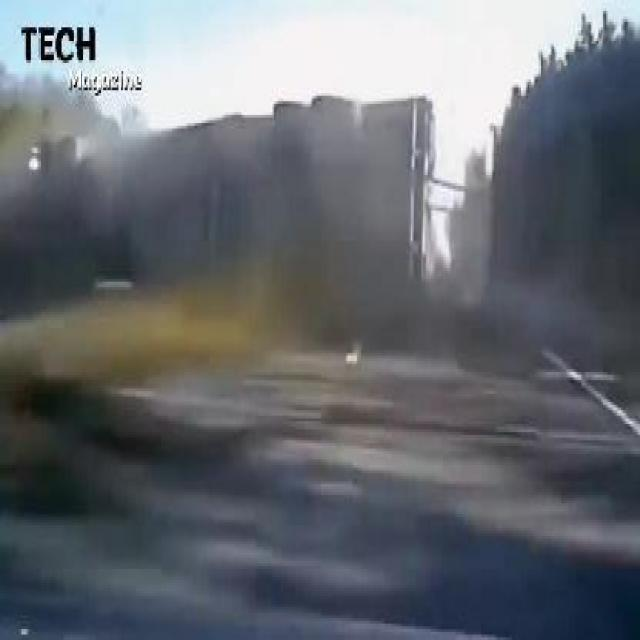accident: (23, 93, 502, 309)
